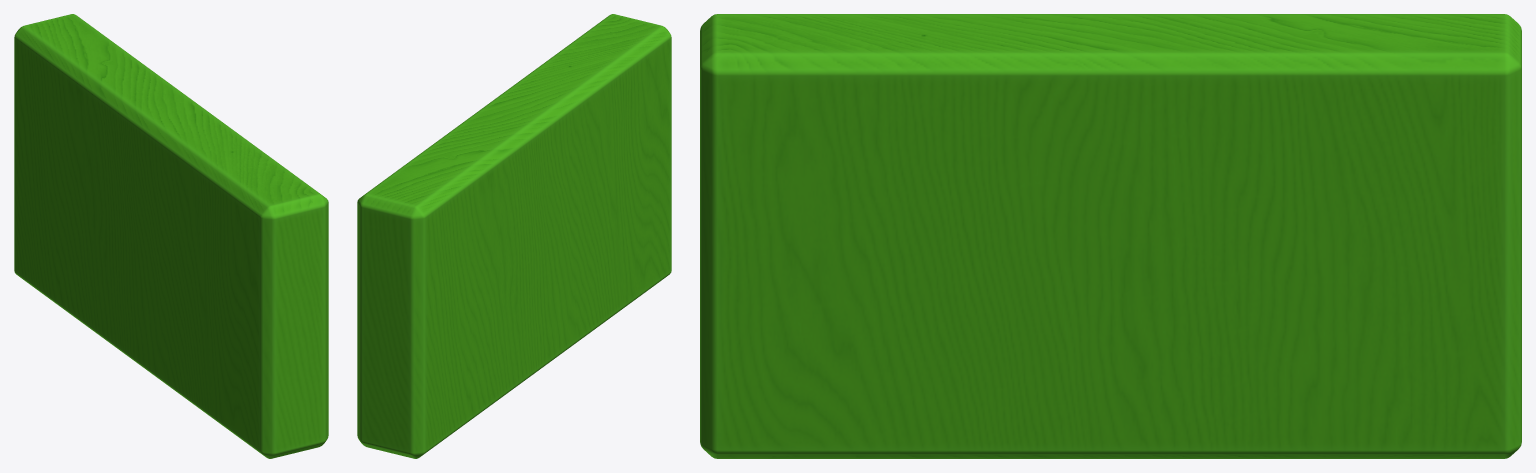
The model's file is Color_Escape_03.fbx.
The picture shows the model from 3 angles, left to right: view 1: azimuth 30°, elevation 25°; view 2: azimuth 150°, elevation 25°; view 3: azimuth 270°, elevation 25°; orthographic projection. The views are drawn at different scales.
Parts seen in each view (by area): view 1: Color_Escape; view 2: Color_Escape; view 3: Color_Escape.
Boxes of the visible parts, x1=… form: Color_Escape: x1=14, y1=14, x2=328, y2=458; Color_Escape: x1=357, y1=14, x2=671, y2=458; Color_Escape: x1=700, y1=14, x2=1521, y2=458.
Bounding box in the file's own units: 0.4581 × 1.63 × 3.
1 material, 1 textured.
